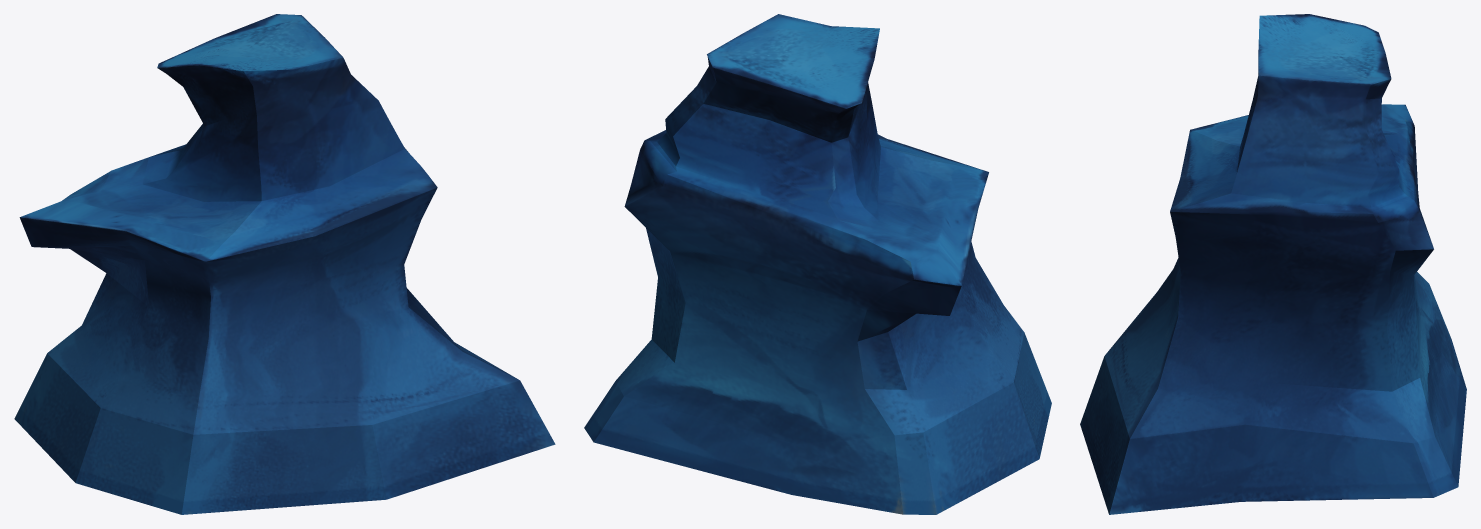
File: rock_short.fbx
The picture shows the model from 3 angles, left to right: view 1: azimuth 30°, elevation 25°; view 2: azimuth 150°, elevation 25°; view 3: azimuth 270°, elevation 25°; orthographic projection. The views are drawn at different scales.
Visible parts, largest first — view 1: zooshi_rock_mid01; view 2: zooshi_rock_mid01; view 3: zooshi_rock_mid01.
Boxes of the visible parts, x1,y1,x2,y2 form: zooshi_rock_mid01: [14, 14, 555, 514]; zooshi_rock_mid01: [584, 14, 1051, 514]; zooshi_rock_mid01: [1080, 14, 1466, 514].
Size of the model in its own units: 2.92 by 2.64 by 2.42.
